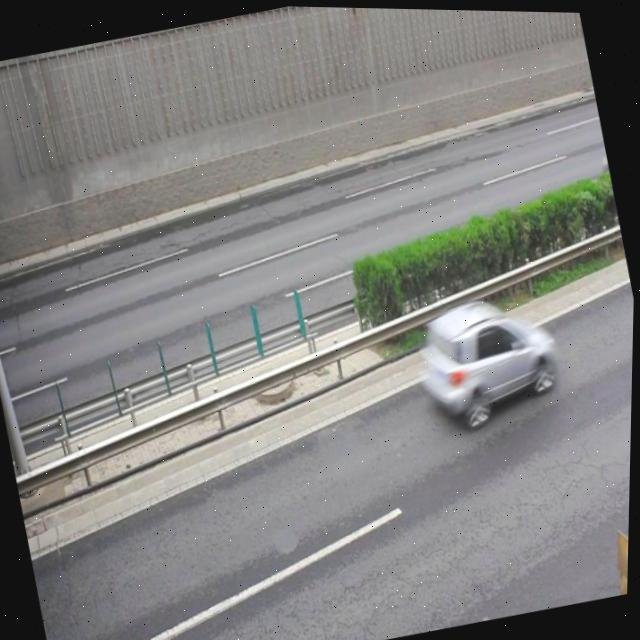car: (410, 283, 565, 432)
